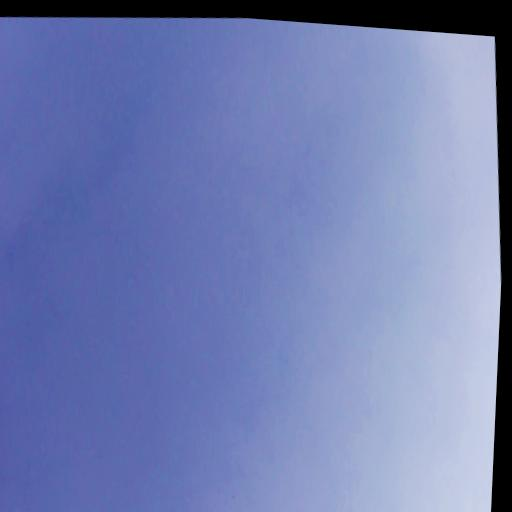drones: (226, 489, 240, 506)
